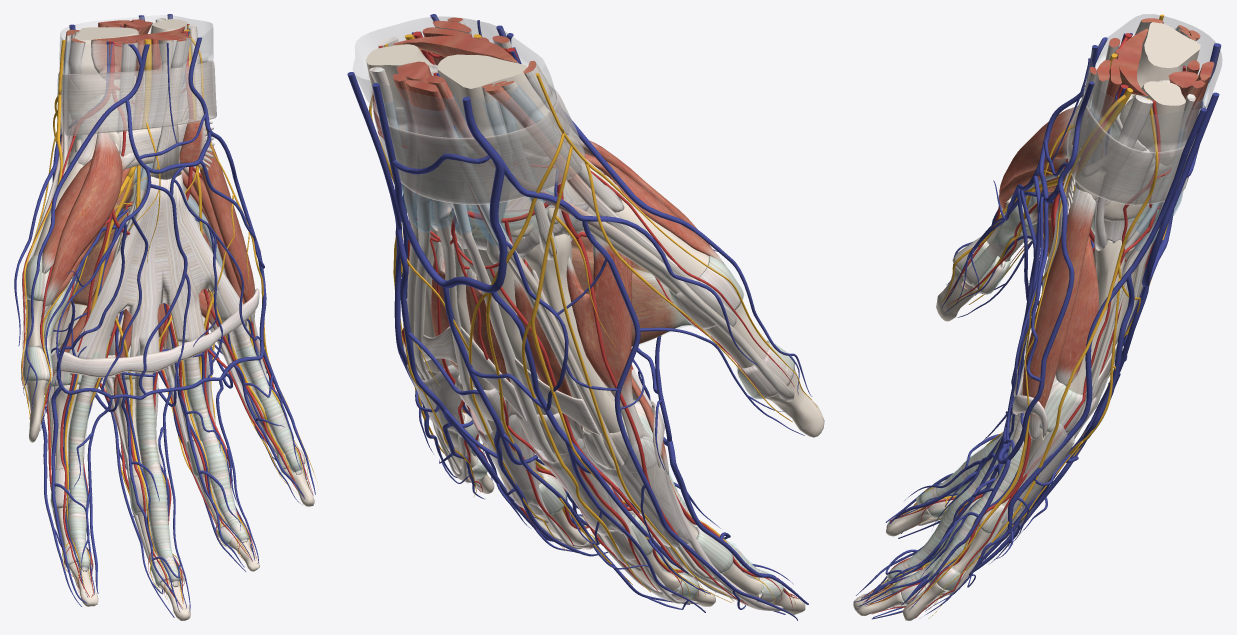
Rendered from hand.glb.
3 renders of one model, left to right at view 1: azimuth 30°, elevation 25°; view 2: azimuth 150°, elevation 25°; view 3: azimuth 270°, elevation 25°, orthographic. The views are drawn at different scales.
Visible parts, largest first — view 1: Aponeurosis palmaris, Fibrous sheath of digits of hand, Palmar venous network of hand, Flexor retinaculum of wrist, Palmal digital veins, Abductor pollicis brevis, Antebrachial fascia, Superficial transverse metacarpal ligament, Palmar metacarpal veins, Proper palmar digital arteries, Abductor digiti minimi, Dorsal digital veins (+48 smaller); view 2: Extensor digitorum, Extensor retinaculum of wrist, Antebrachial fascia, Dorsal digital veins, Dorsal metatarsal veins, Radial nerve Dorsal digital nn, 1st dorsal interosseus of hand, Dorsal venous network of hand, Articular capsules of metacarpophalangeal joints, Articular capsule of radiocarpal joint, Radius, Extensor pollicis longus (+42 smaller); view 3: Palmar venous network of hand, Abductor digiti minimi, Antebrachial fascia, Fibrous sheath of digits of hand, Flexor retinaculum of wrist, Palmal digital veins, Dorsal digital veins, Opponens digiti minimi muscle of hand, Articular capsule of radiocarpal joint, Ulna, Common tendon of flexor carpi ulnaris, Radius (+36 smaller).
Part boxes in pixels (x1,y1,x2,y2): Aponeurosis palmaris: (68, 174, 243, 358); Fibrous sheath of digits of hand: (67, 322, 301, 582); Palmar venous network of hand: (36, 43, 266, 399); Flexor retinaculum of wrist: (60, 60, 216, 136); Palmal digital veins: (23, 268, 315, 612); Abductor pollicis brevis: (42, 123, 122, 306); Antebrachial fascia: (59, 15, 213, 73); Superficial transverse metacarpal ligament: (51, 288, 259, 377); Palmar metacarpal veins: (40, 218, 313, 609); Proper palmar digital arteries: (64, 304, 313, 607); Abductor digiti minimi: (199, 130, 255, 325); Dorsal digital veins: (14, 273, 309, 617); Extensor digitorum: (404, 80, 716, 580); Extensor retinaculum of wrist: (373, 101, 581, 204); Antebrachial fascia: (352, 16, 556, 137); Dorsal digital veins: (399, 298, 804, 620); Dorsal metatarsal veins: (394, 215, 720, 449); Radial nerve Dorsal digital nn: (469, 132, 816, 602); 1st dorsal interosseus of hand: (566, 234, 652, 446); Dorsal venous network of hand: (365, 116, 580, 292); Articular capsules of metacarpophalangeal joints: (416, 256, 743, 472); Articular capsule of radiocarpal joint: (398, 65, 603, 259); Radius: (437, 54, 553, 156); Extensor pollicis longus: (426, 75, 794, 401); Palmar venous network of hand: (997, 58, 1090, 464); Abductor digiti minimi: (1022, 188, 1096, 439); Antebrachial fascia: (1084, 14, 1222, 152); Fibrous sheath of digits of hand: (887, 412, 1031, 595); Flexor retinaculum of wrist: (1067, 80, 1155, 205); Palmal digital veins: (853, 180, 1012, 606); Dorsal digital veins: (872, 241, 1103, 619); Opponens digiti minimi muscle of hand: (1055, 236, 1098, 385); Articular capsule of radiocarpal joint: (1091, 79, 1169, 251); Ulna: (1119, 81, 1185, 165); Common tendon of flexor carpi ulnaris: (1080, 95, 1153, 250); Radius: (1132, 22, 1200, 95).
Size of the model in its own units: 0.1097 by 0.1855 by 0.1032.
45 materials, 7 textured.
